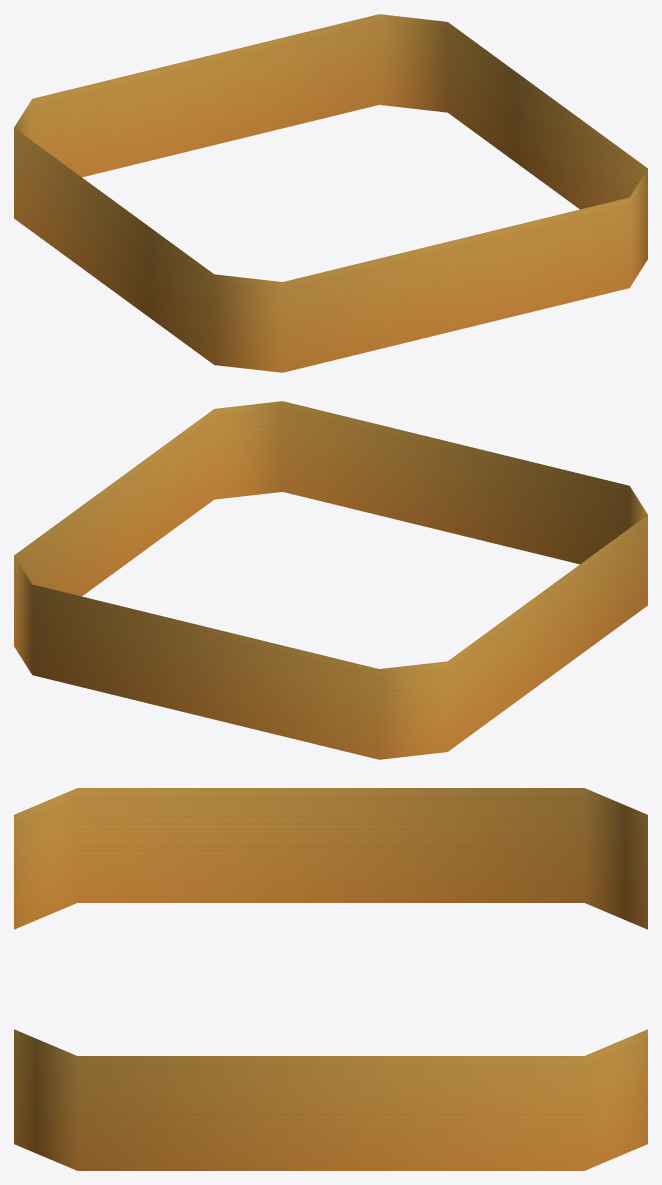
Rendered from selection-b.glb.
The picture shows the model from 3 angles, top to bottom: view 1: azimuth 30°, elevation 25°; view 2: azimuth 150°, elevation 25°; view 3: azimuth 270°, elevation 25°; orthographic projection. The views are drawn at different scales.
Parts seen in each view (by area): view 1: selection-b; view 2: selection-b; view 3: selection-b.
Part boxes in pixels (x1,y1,x2,y2): selection-b: (14,14,647,372); selection-b: (14,401,647,759); selection-b: (14,788,647,1170).
Bounding box in the file's own units: 1 × 0.2 × 1.
1 material, 1 textured.
